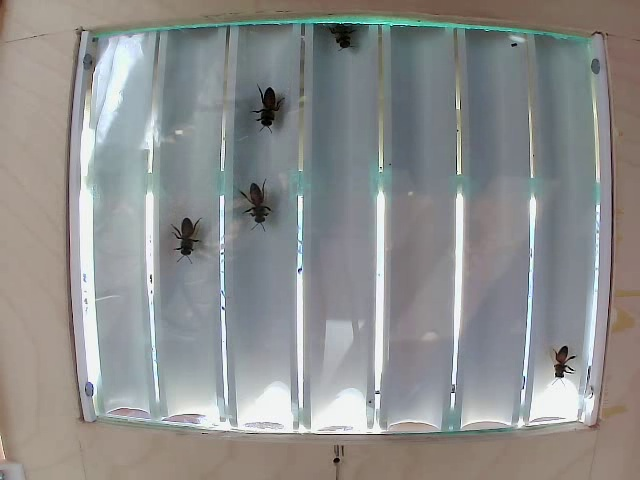bee: (237, 185, 284, 242), (542, 343, 581, 395), (322, 17, 365, 59), (253, 85, 288, 131), (176, 219, 212, 256)
